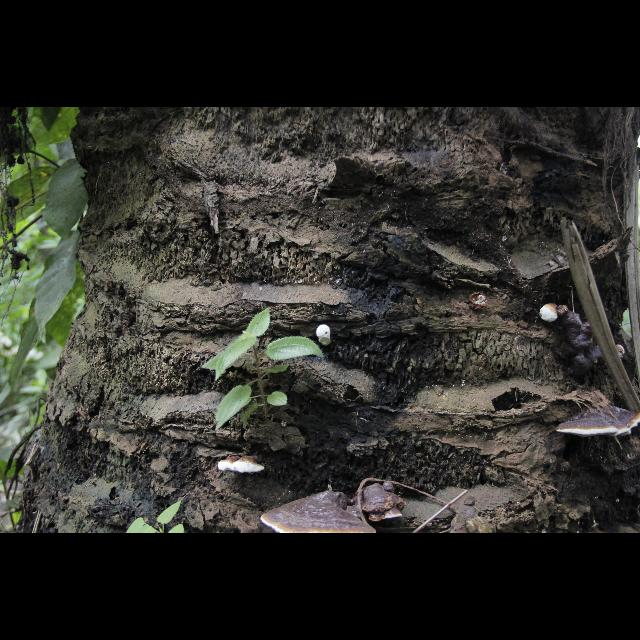ganoderma: (261, 492, 377, 535), (561, 305, 607, 378), (556, 404, 640, 439), (360, 481, 408, 523), (218, 456, 267, 476)
primordium: (540, 304, 560, 324), (317, 325, 334, 348), (617, 345, 626, 357)
